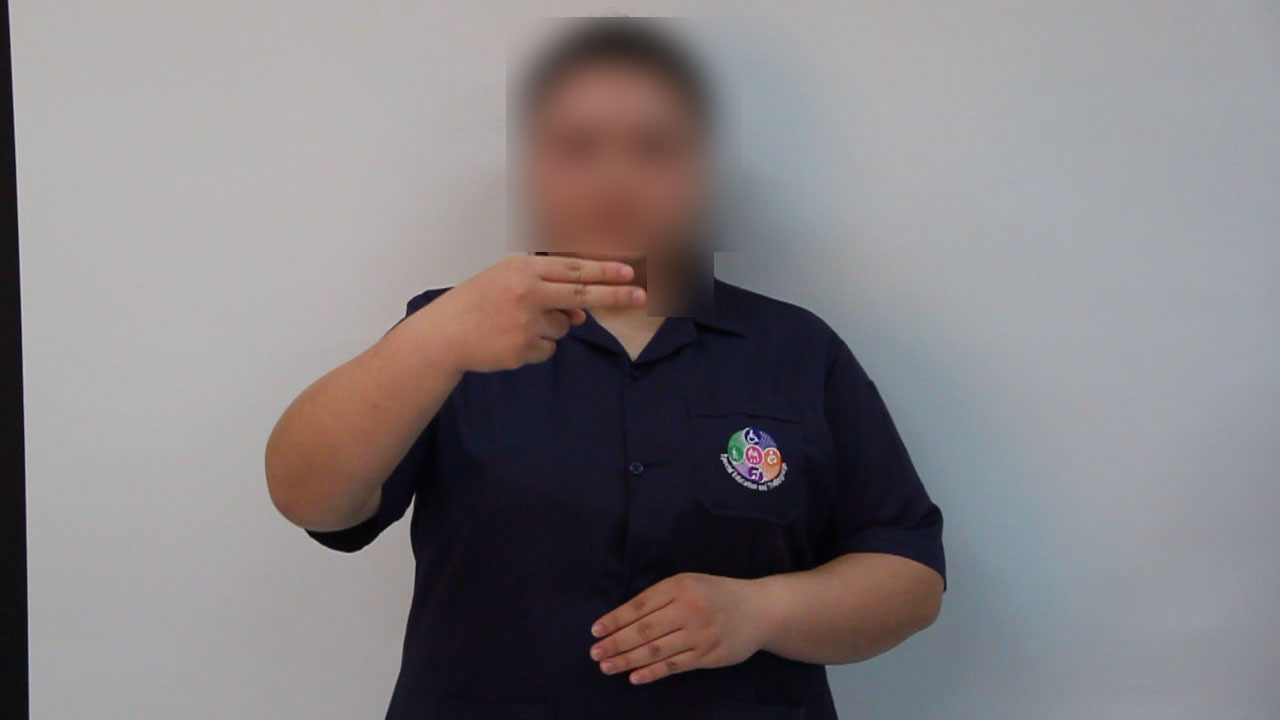hor: (438, 246, 654, 383)
